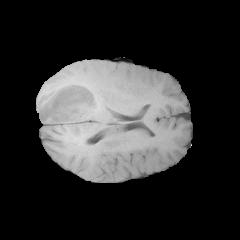glioma: (39, 78, 105, 127)
